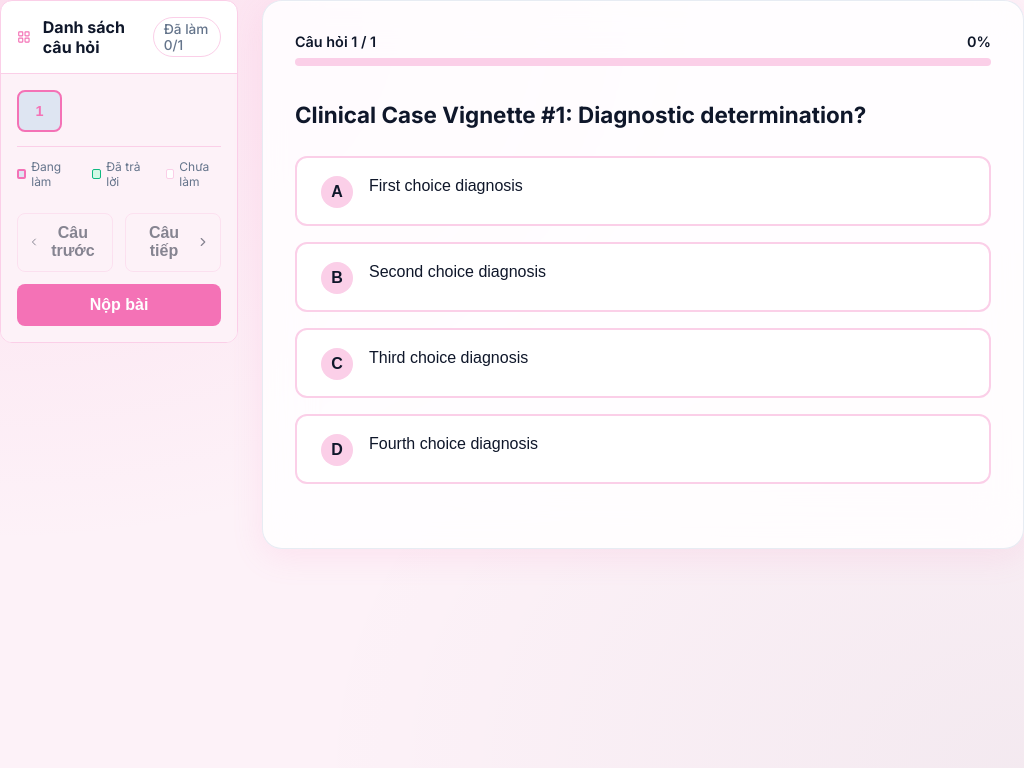
Empirical Challenger Suite: History Review & Session Persistence Stress Test (M1) › Suite 4: Score Calculation Correctness Across Boundaries (0, 1, 100 Questions) › E4.3: Boundary 1 Question: 0% Score on incorrect answer with error border
The width and height of the screenshot is (1024, 768).
# Select incorrect option 'B'
Step 1. Click the radio button labelled "B Second choice diagnosis" → click(337, 278), box [295, 242, 991, 312]
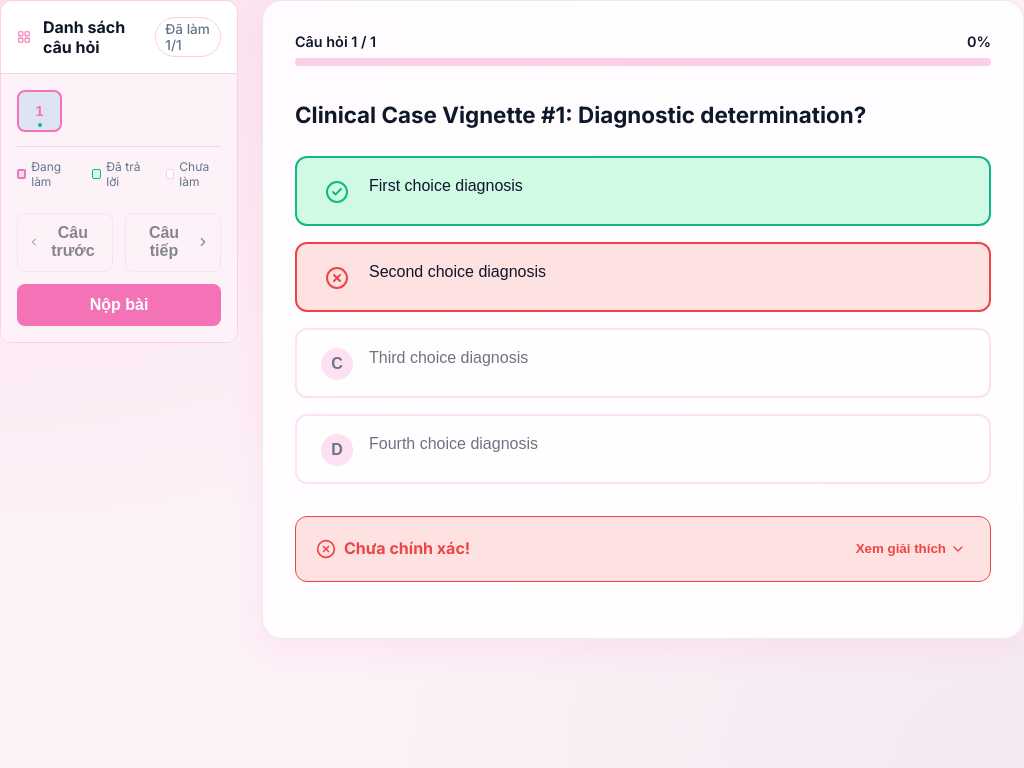
# Click "Nộp bài"
Step 2. Click the button "Nộp bài" → click(119, 305), box [17, 284, 221, 326]
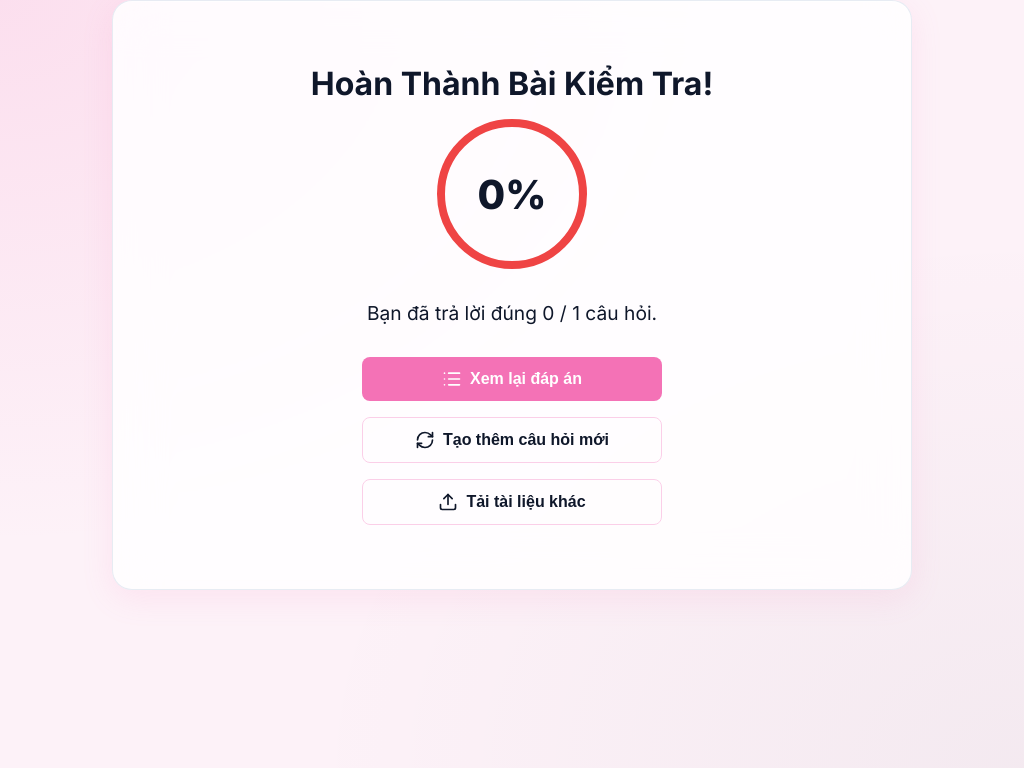
Expected: the text "0%" is shown, [437, 119, 587, 269]
Now the text "Bạn đã trả lời đúng 0 / 1 câu hỏi." is shown, box [367, 301, 657, 325]
